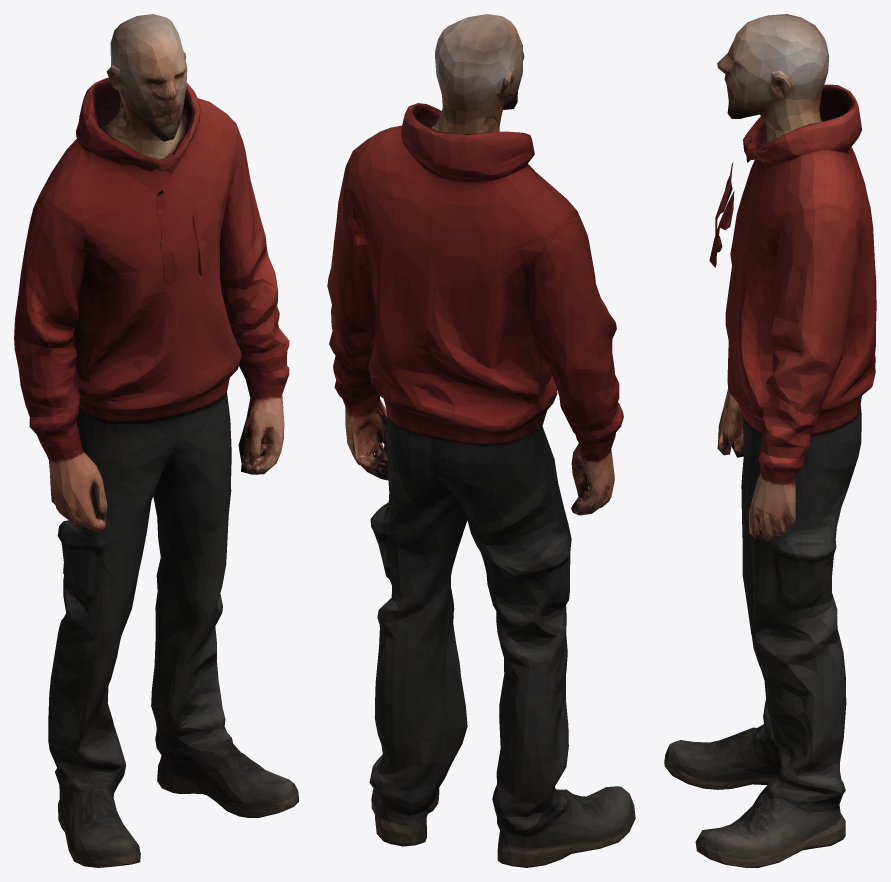
Rendered from enemy.glb.
The picture shows the model from 3 angles, left to right: view 1: azimuth 30°, elevation 25°; view 2: azimuth 150°, elevation 25°; view 3: azimuth 270°, elevation 25°; orthographic projection. The views are drawn at different scales.
Visible parts, largest first — view 1: geometry_0; view 2: geometry_0; view 3: geometry_0.
Part boxes in pixels (x1=…): geometry_0: x1=14, y1=14, x2=298, y2=867; geometry_0: x1=327, y1=14, x2=635, y2=867; geometry_0: x1=664, y1=14, x2=876, y2=867.
Size of the model in its own units: 0.3493 by 0.9999 by 0.2419.
Materials: 1 (1 with a texture image).
